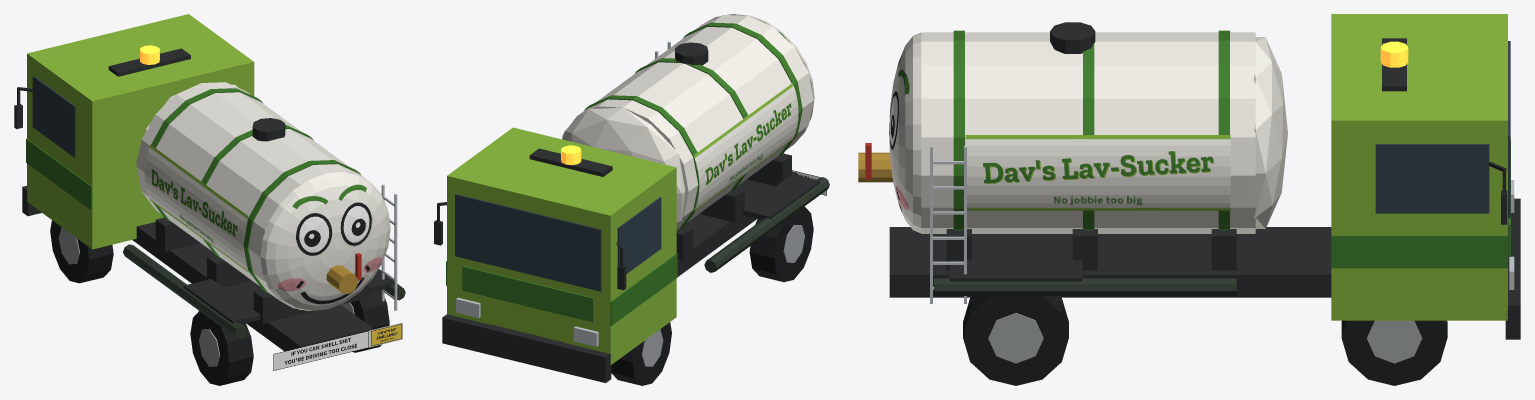
The model's file is lwf_honey_wagon_v1.glb.
The picture shows the model from 3 angles, left to right: view 1: azimuth 30°, elevation 25°; view 2: azimuth 150°, elevation 25°; view 3: azimuth 270°, elevation 25°; orthographic projection. The views are drawn at different scales.
Parts seen in each view (by area): view 1: LWF_HoneyWagon_Body, LWF_HoneyWagon_RearFace, LWF_HoneyWagon_NameBoard_L, LWF_HoneyWagon_Wheel_RL, LWF_HoneyWagon_Wheel_FL, LWF_HoneyWagon_RearPlate, LWF_HoneyWagon_Wheel_RR, LWF_HoneyWagon_Beacon; view 2: LWF_HoneyWagon_Body, LWF_HoneyWagon_NameBoard_L, LWF_HoneyWagon_Wheel_RL, LWF_HoneyWagon_Wheel_FL, LWF_HoneyWagon_RearFace, LWF_HoneyWagon_Beacon; view 3: LWF_HoneyWagon_Body, LWF_HoneyWagon_NameBoard_R, LWF_HoneyWagon_Wheel_RR, LWF_HoneyWagon_Wheel_FR, LWF_HoneyWagon_RearFace, LWF_HoneyWagon_Beacon.
Boxes of the visible parts, box(x1,y1,x2,y2) form: LWF_HoneyWagon_Body: box(14, 14, 405, 351); LWF_HoneyWagon_RearFace: box(260, 172, 390, 310); LWF_HoneyWagon_NameBoard_L: box(144, 144, 248, 271); LWF_HoneyWagon_Wheel_RL: box(190, 311, 253, 385); LWF_HoneyWagon_Wheel_FL: box(50, 220, 113, 283); LWF_HoneyWagon_RearPlate: box(273, 322, 402, 370); LWF_HoneyWagon_Wheel_RR: box(341, 290, 389, 352); LWF_HoneyWagon_Beacon: box(140, 45, 159, 64); LWF_HoneyWagon_Body: box(434, 15, 829, 382); LWF_HoneyWagon_NameBoard_L: box(693, 83, 798, 211); LWF_HoneyWagon_Wheel_RL: box(749, 206, 813, 281); LWF_HoneyWagon_Wheel_FL: box(611, 322, 671, 385); LWF_HoneyWagon_RearFace: box(704, 14, 814, 141); LWF_HoneyWagon_Beacon: box(561, 145, 581, 165); LWF_HoneyWagon_Body: box(858, 14, 1520, 339); LWF_HoneyWagon_NameBoard_R: box(965, 135, 1230, 210); LWF_HoneyWagon_Wheel_RR: box(963, 296, 1068, 385); LWF_HoneyWagon_Wheel_FR: box(1341, 320, 1447, 385); LWF_HoneyWagon_RearFace: box(889, 33, 921, 233); LWF_HoneyWagon_Beacon: box(1380, 41, 1408, 67).
Bounding box in the file's own units: 2.32 × 2.64 × 5.25.
5 materials, 4 textured.
